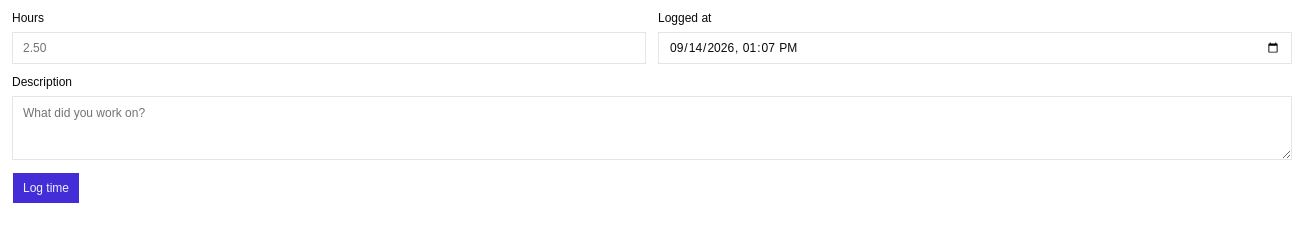
Test: TimeLogForm › rejects invalid hours before submit
The width and height of the screenshot is (1304, 244).
Click the button "Log time".
click(46, 188)  # box [12,172,80,204]
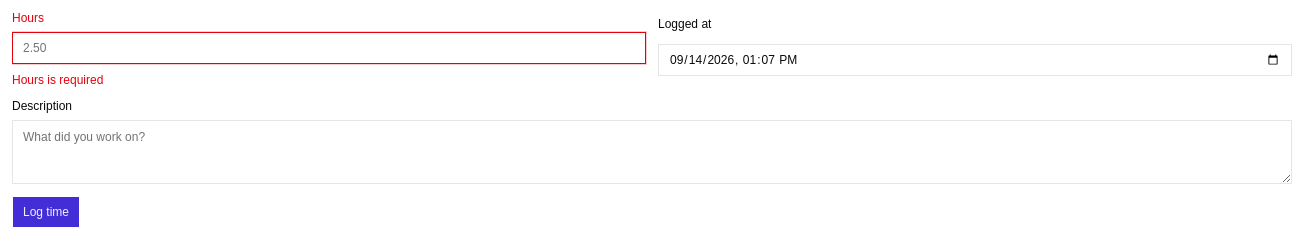
Expected: the text "Hours is required" is shown, [12,73,103,87]
